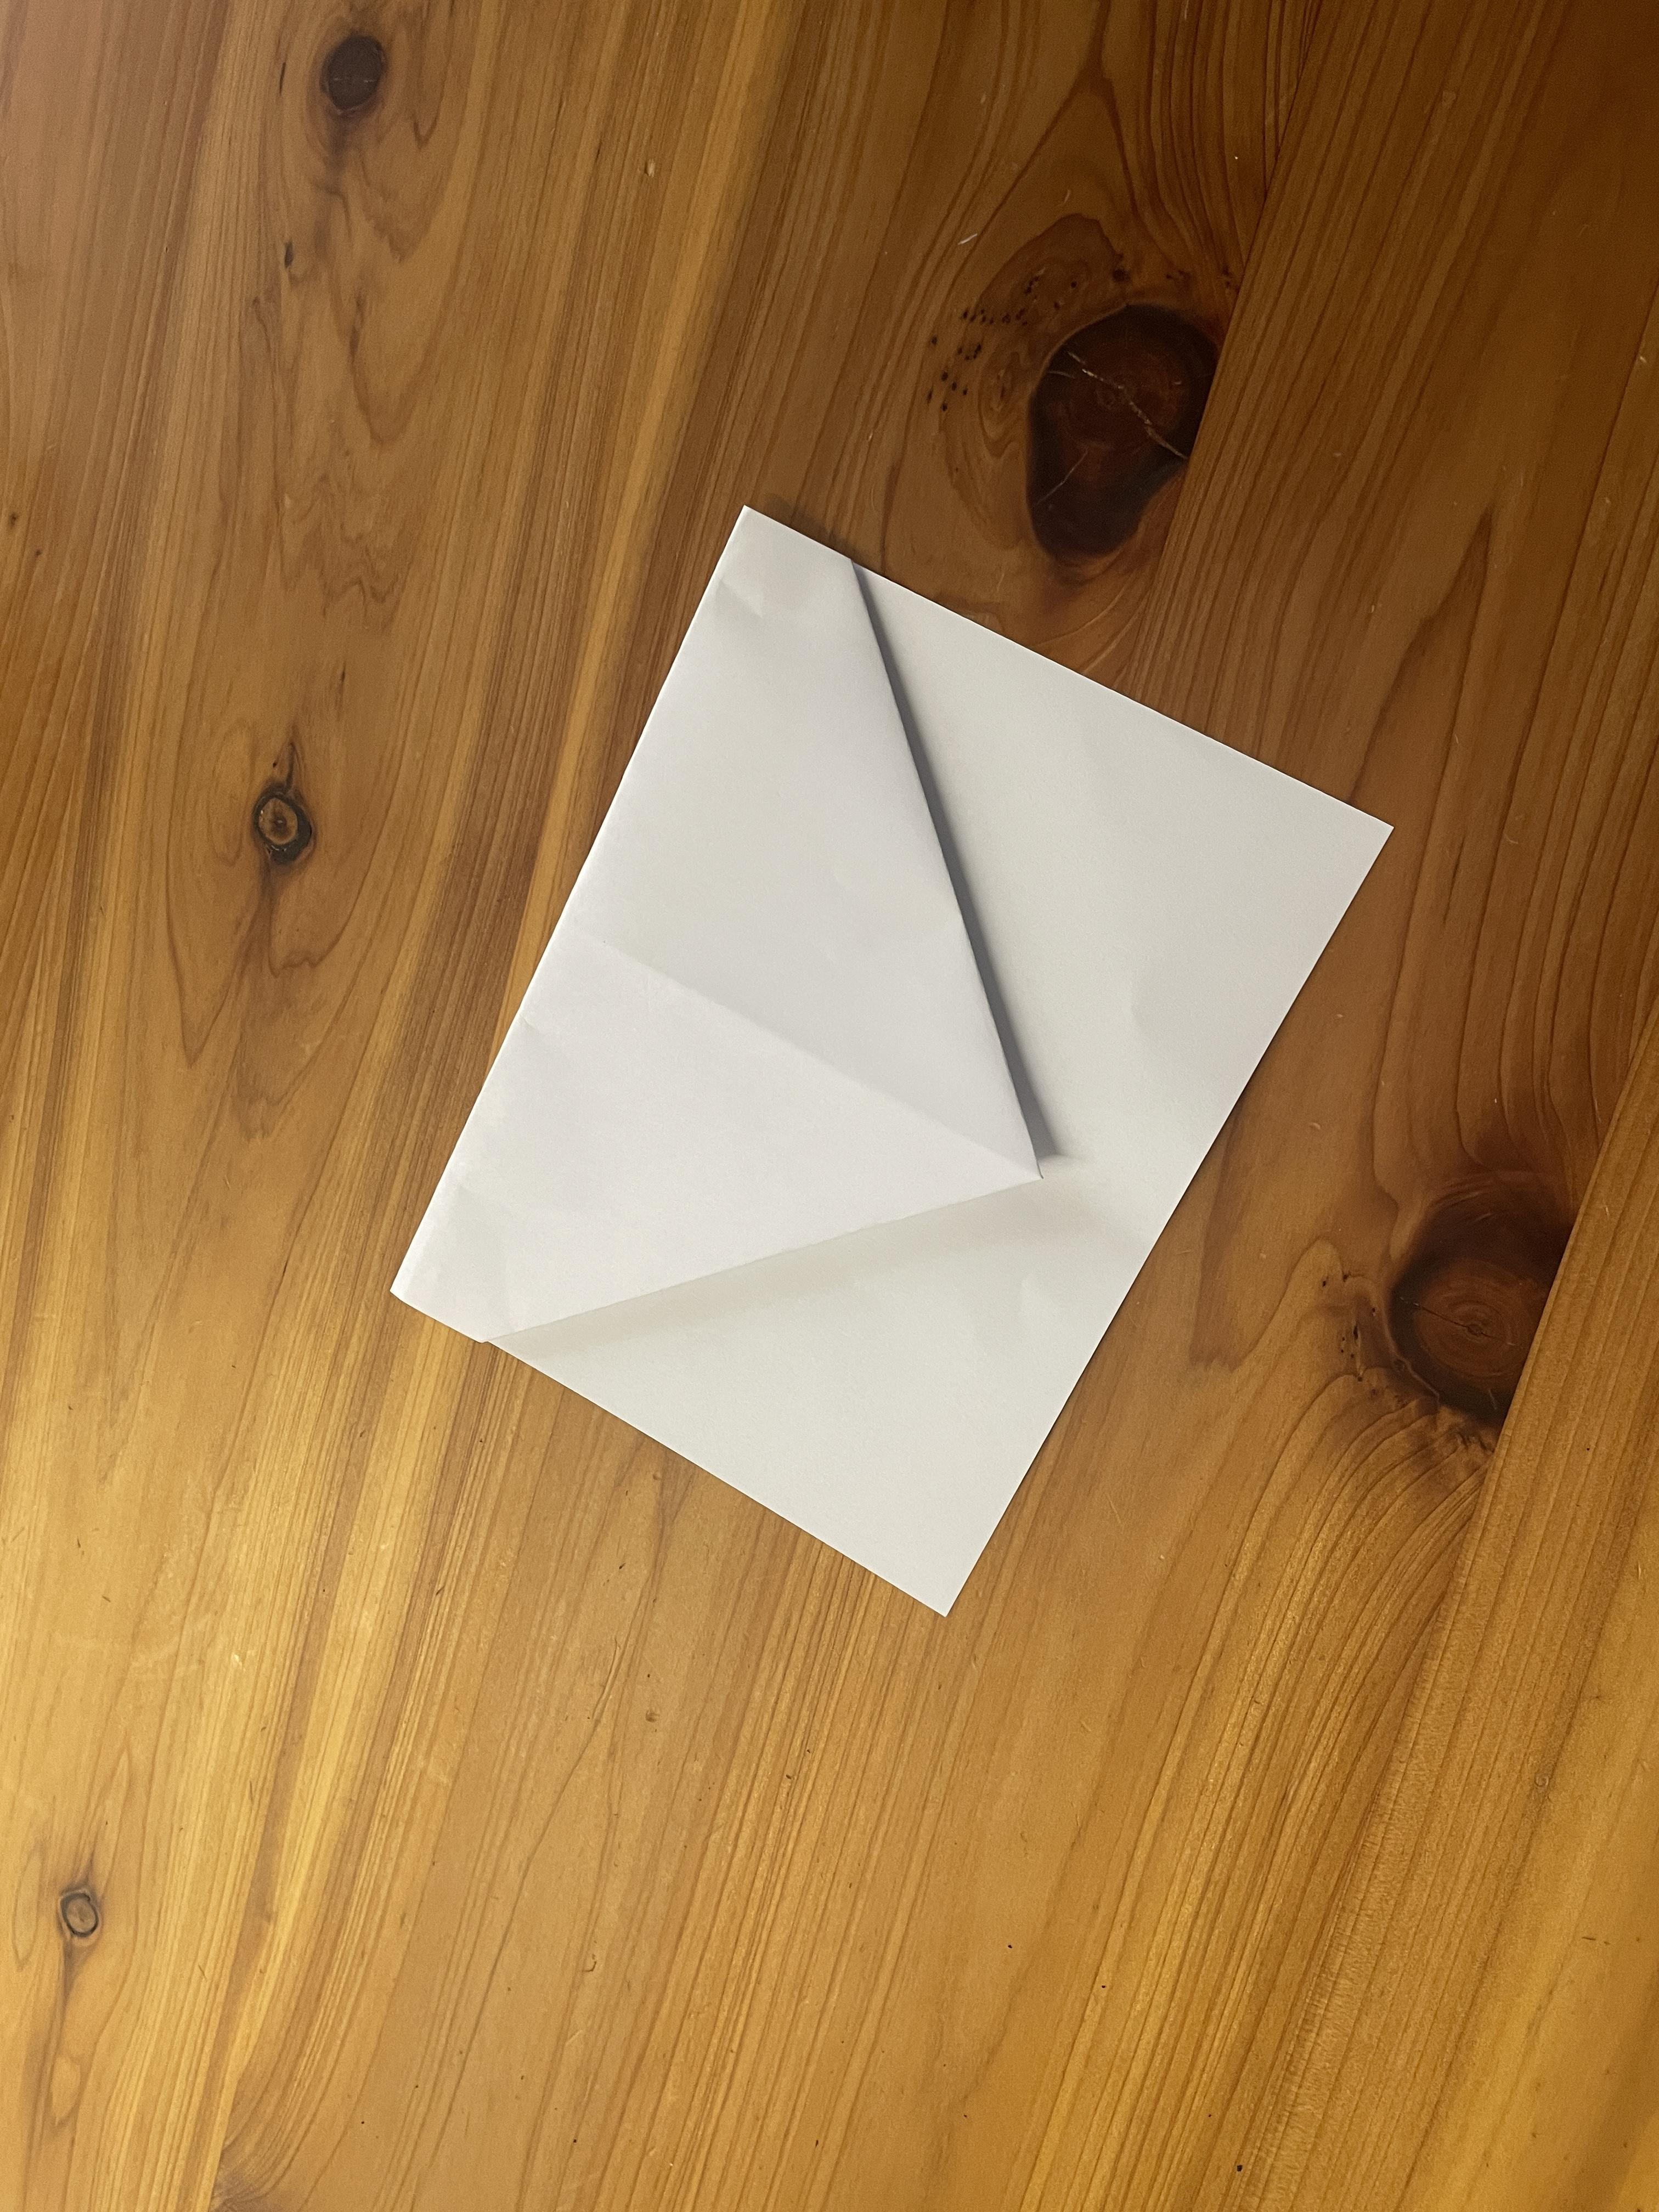shape_1: (345, 369, 1495, 1749)
